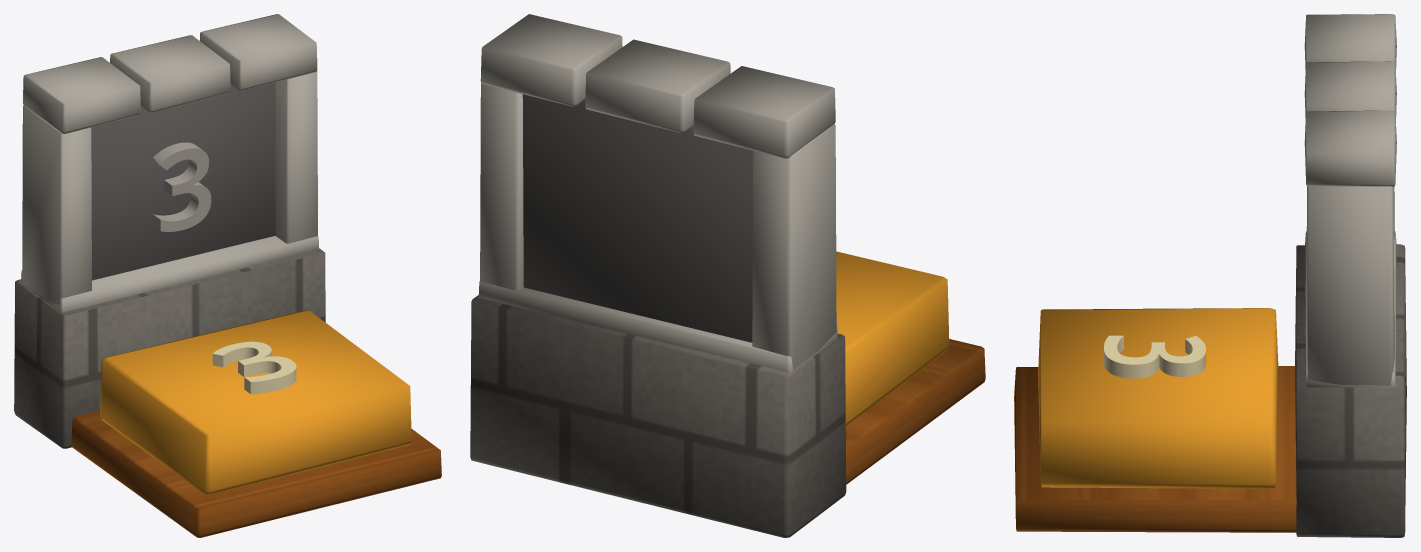
Rendered from 34_array_tile_3.glb.
3 views of the same model, side by side, from view 1: azimuth 30°, elevation 25°; view 2: azimuth 150°, elevation 25°; view 3: azimuth 270°, elevation 25° (orthographic). The views are drawn at different scales.
Parts seen in each view (by area): view 1: GoldBlock, WallBackPanel, WallPlinth, TileBase, WallPillar_-1, WallPillar_1, WallTopCap_0, WallTopCap_1, WallSill, WallTopCap_2, WallDigit, TileDigit; view 2: WallPlinth, WallBackPanel, WallPillar_-1, GoldBlock, WallTopCap_0, WallTopCap_1, WallPillar_1, WallTopCap_2, TileBase, WallSill; view 3: GoldBlock, WallPlinth, TileBase, WallPillar_1, WallTopCap_2, WallTopCap_1, WallTopCap_0, TileDigit, WallSill.
Part boxes in pixels (x1=…): GoldBlock: x1=100, y1=310, x2=411, y2=494; WallBackPanel: x1=91, y1=82, x2=275, y2=280; WallPlinth: x1=14, y1=248, x2=325, y2=448; TileBase: x1=71, y1=410, x2=441, y2=537; WallPillar_-1: x1=22, y1=105, x2=91, y2=305; WallPillar_1: x1=275, y1=71, x2=317, y2=243; WallTopCap_0: x1=22, y1=57, x2=140, y2=133; WallTopCap_1: x1=110, y1=35, x2=230, y2=112; WallSill: x1=21, y1=236, x2=319, y2=312; WallTopCap_2: x1=200, y1=14, x2=317, y2=90; WallDigit: x1=153, y1=142, x2=211, y2=231; TileDigit: x1=212, y1=341, x2=296, y2=394; WallPlinth: x1=470, y1=295, x2=846, y2=537; WallBackPanel: x1=522, y1=94, x2=753, y2=342; WallPillar_-1: x1=752, y1=124, x2=836, y2=369; GoldBlock: x1=836, y1=251, x2=949, y2=425; WallTopCap_0: x1=693, y1=66, x2=835, y2=158; WallTopCap_1: x1=585, y1=39, x2=730, y2=132; WallPillar_1: x1=480, y1=82, x2=523, y2=290; WallTopCap_2: x1=480, y1=14, x2=622, y2=106; TileBase: x1=845, y1=339, x2=985, y2=484; WallSill: x1=478, y1=281, x2=837, y2=372; GoldBlock: x1=1038, y1=308, x2=1278, y2=488; WallPlinth: x1=1295, y1=244, x2=1406, y2=537; TileBase: x1=1014, y1=366, x2=1296, y2=532; WallPillar_1: x1=1306, y1=186, x2=1394, y2=385; WallTopCap_2: x1=1304, y1=110, x2=1396, y2=186; WallTopCap_1: x1=1304, y1=61, x2=1396, y2=119; WallTopCap_0: x1=1304, y1=14, x2=1396, y2=70; TileDigit: x1=1104, y1=335, x2=1205, y2=378; WallSill: x1=1305, y1=231, x2=1396, y2=387.
Bounding box in the file's own units: 0.86 × 1.06 × 0.98.
Materials: 6 (2 with a texture image).
